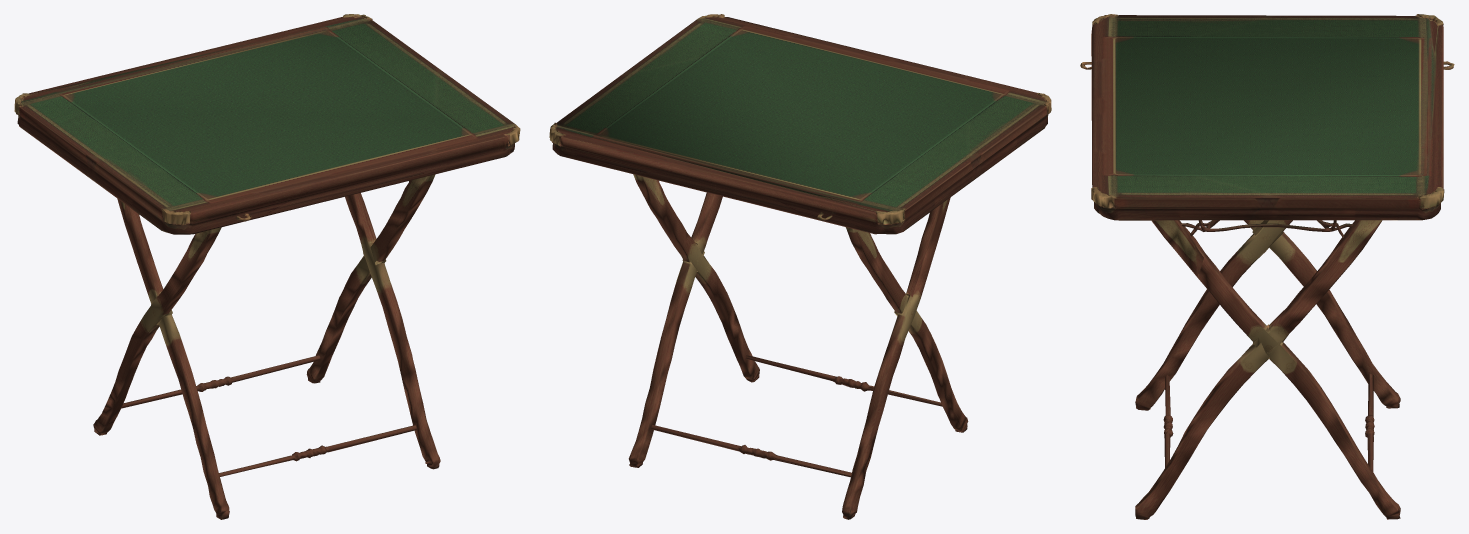
Rendered from rrr_prop_card-table_v1.glb.
3 views of the same model, side by side, from view 1: azimuth 30°, elevation 25°; view 2: azimuth 150°, elevation 25°; view 3: azimuth 270°, elevation 25° (orthographic). The views are drawn at different scales.
Parts seen in each view (by area): view 1: Mesh_0; view 2: Mesh_0; view 3: Mesh_0.
Boxes of the visible parts, left/top/right/bottom form: Mesh_0: left=14, top=14, right=520, bottom=519; Mesh_0: left=549, top=14, right=1051, bottom=519; Mesh_0: left=1080, top=14, right=1454, bottom=519.
Size of the model in its own units: 0.7658 by 0.7 by 0.6626.
Materials: 1 (1 with a texture image).
